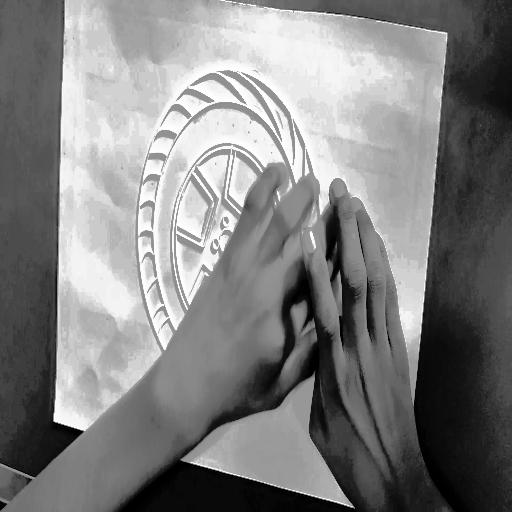bottom_left: (50, 414, 58, 430)
tire: (123, 44, 344, 434)
top_right: (443, 24, 451, 42)
